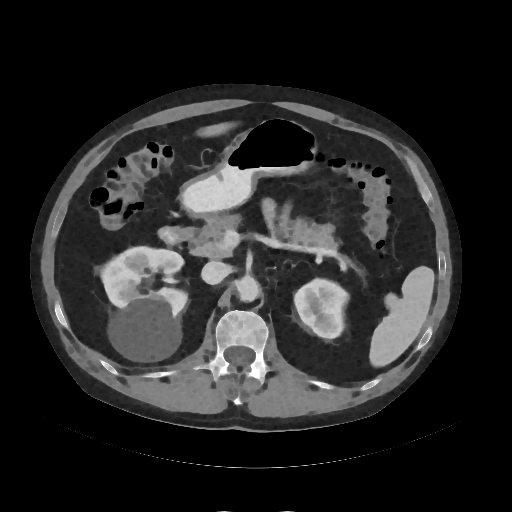Lesion: (105, 291, 187, 367)
